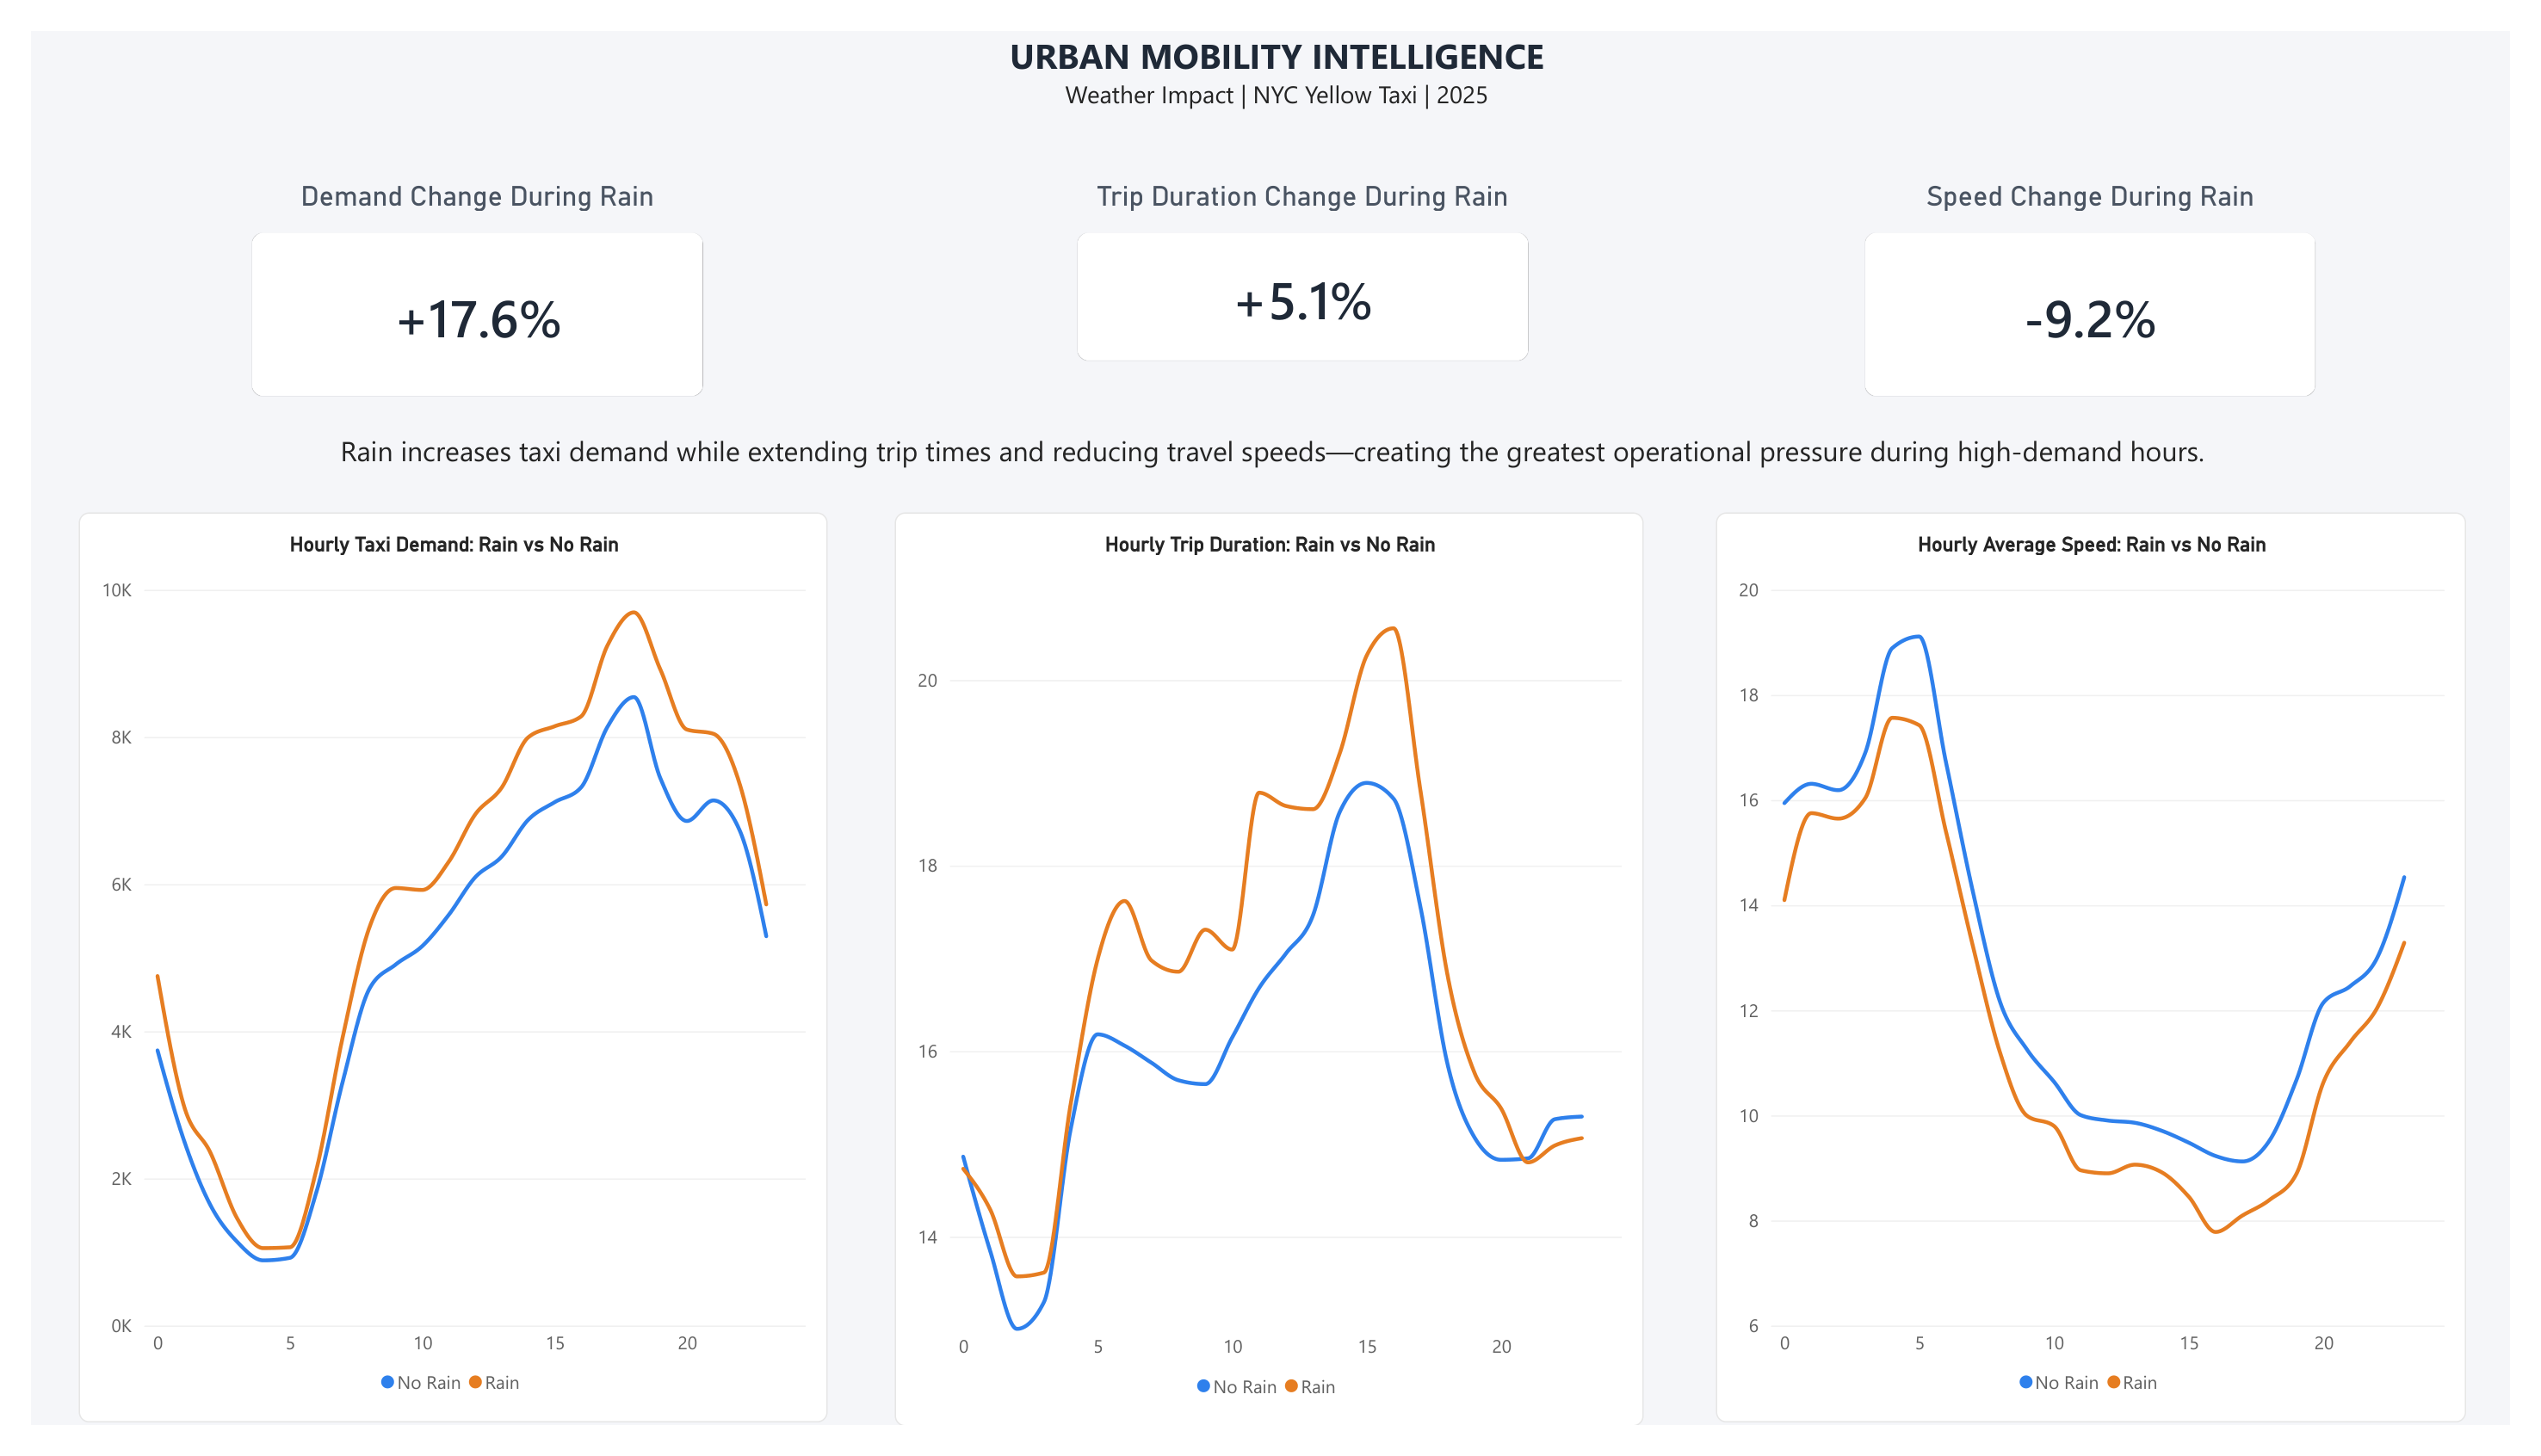

The page's visual inventory and layout, read from the dashboard file:
{"tool":"powerbi","page":{"name":"Weather Impact","canvas":[1920,1080],"ordinal":2},"visuals":[{"type":"textbox","box":[9.6,0,1910.4,85.4],"z":0},{"type":"cardVisual","title":"Demand Change During Rain","fields":{"Data":["pbi_weather_hourly_comparison.Demand Change Display"]},"box":[170.8,114.7,350,170.8],"z":1000},{"type":"cardVisual","title":"Trip Duration Change During Rain","fields":{"Data":["pbi_weather_hourly_comparison.Duration Change Display"]},"box":[810,114.7,350,170.8],"z":2000},{"type":"cardVisual","title":"Speed Change During Rain","fields":{"Data":["pbi_weather_hourly_comparison.Speed Change Display"]},"box":[1420,114.7,350,170.8],"z":3000},{"type":"lineChart","title":"Hourly Taxi Demand: Rain vs No Rain","fields":{"Category":["pbi_weather_hourly_comparison.hour_of_day"],"Y":["Sum(pbi_weather_hourly_comparison.avg_trips)"],"Series":["pbi_weather_hourly_comparison.weather_condition"]},"box":[36.6,373.3,580.7,705.1],"z":4000},{"type":"lineChart","title":"Hourly Trip Duration: Rain vs No Rain","fields":{"Category":["pbi_weather_hourly_comparison.hour_of_day"],"Y":["Sum(pbi_weather_hourly_comparison.avg_duration_minutes)"],"Series":["pbi_weather_hourly_comparison.weather_condition"]},"box":[668.5,373.3,580.7,707.5],"z":5000},{"type":"lineChart","title":"Hourly Average Speed: Rain vs No Rain","fields":{"Category":["pbi_weather_hourly_comparison.hour_of_day"],"Y":["Sum(pbi_weather_hourly_comparison.avg_speed_mph)"],"Series":["pbi_weather_hourly_comparison.weather_condition"]},"box":[1305.3,373.3,580.7,705.1],"z":6000},{"type":"textbox","box":[36.6,309.9,1849.4,31.7],"z":7000}]}

Visuals, with their boxes in screenshot pixels (x1, y1, x2, y2), scaled from the page's 1920x1080 canvas onto the 2541x1456 screenshot:
textbox: crop(13, 0, 2540, 115)
"Demand Change During Rain" cardVisual: crop(226, 155, 689, 385)
"Trip Duration Change During Rain" cardVisual: crop(1072, 155, 1536, 385)
"Speed Change During Rain" cardVisual: crop(1879, 155, 2342, 385)
"Hourly Taxi Demand: Rain vs No Rain" lineChart: crop(48, 503, 817, 1453)
"Hourly Trip Duration: Rain vs No Rain" lineChart: crop(885, 503, 1654, 1455)
"Hourly Average Speed: Rain vs No Rain" lineChart: crop(1728, 503, 2496, 1453)
textbox: crop(48, 418, 2496, 460)
